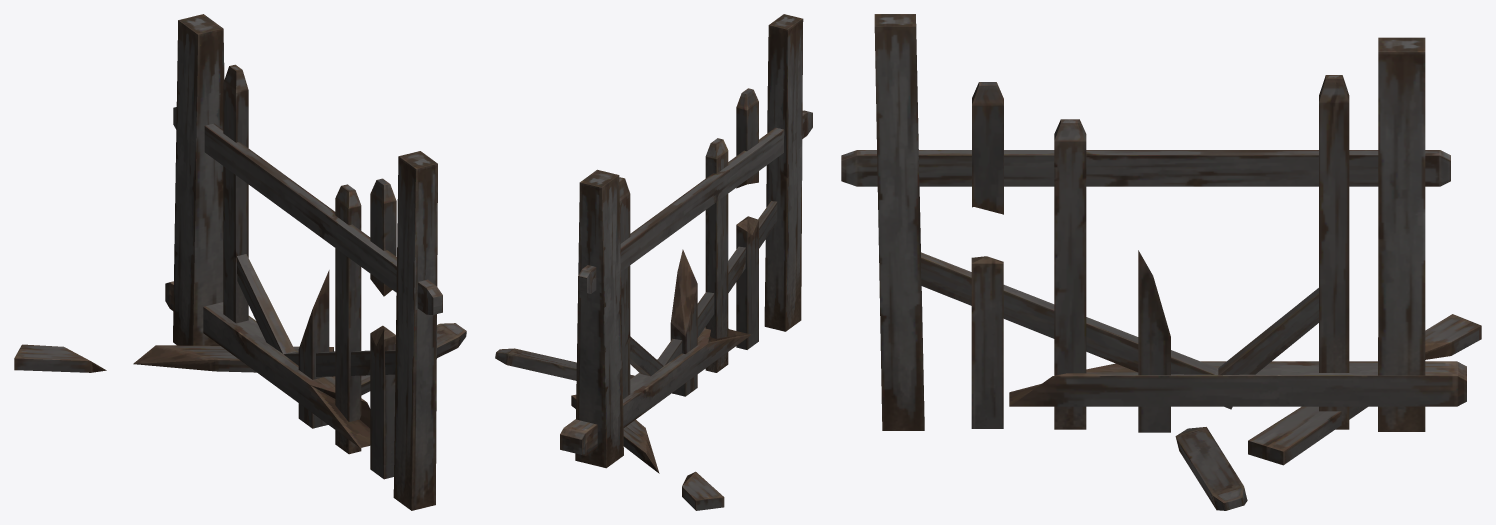
Rendered from Stage-muwu-zhalan1.FBX.
3 views of the same model, side by side, from view 1: azimuth 30°, elevation 25°; view 2: azimuth 150°, elevation 25°; view 3: azimuth 270°, elevation 25° (orthographic). The views are drawn at different scales.
Parts seen in each view (by area): view 1: Object004; view 2: Object004; view 3: Object004.
Boxes of the visible parts, x1=… form: Object004: x1=14, y1=14, x2=466, y2=510; Object004: x1=495, y1=14, x2=812, y2=510; Object004: x1=841, y1=14, x2=1481, y2=510.
Bounding box in the file's own units: 1.44 × 1.33 × 1.91.
Materials: 1 (1 with a texture image).
